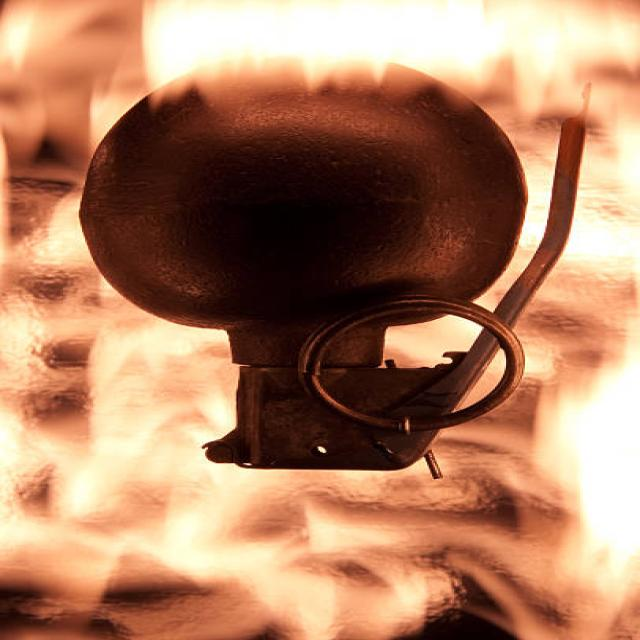grenade: (68, 57, 603, 487)
